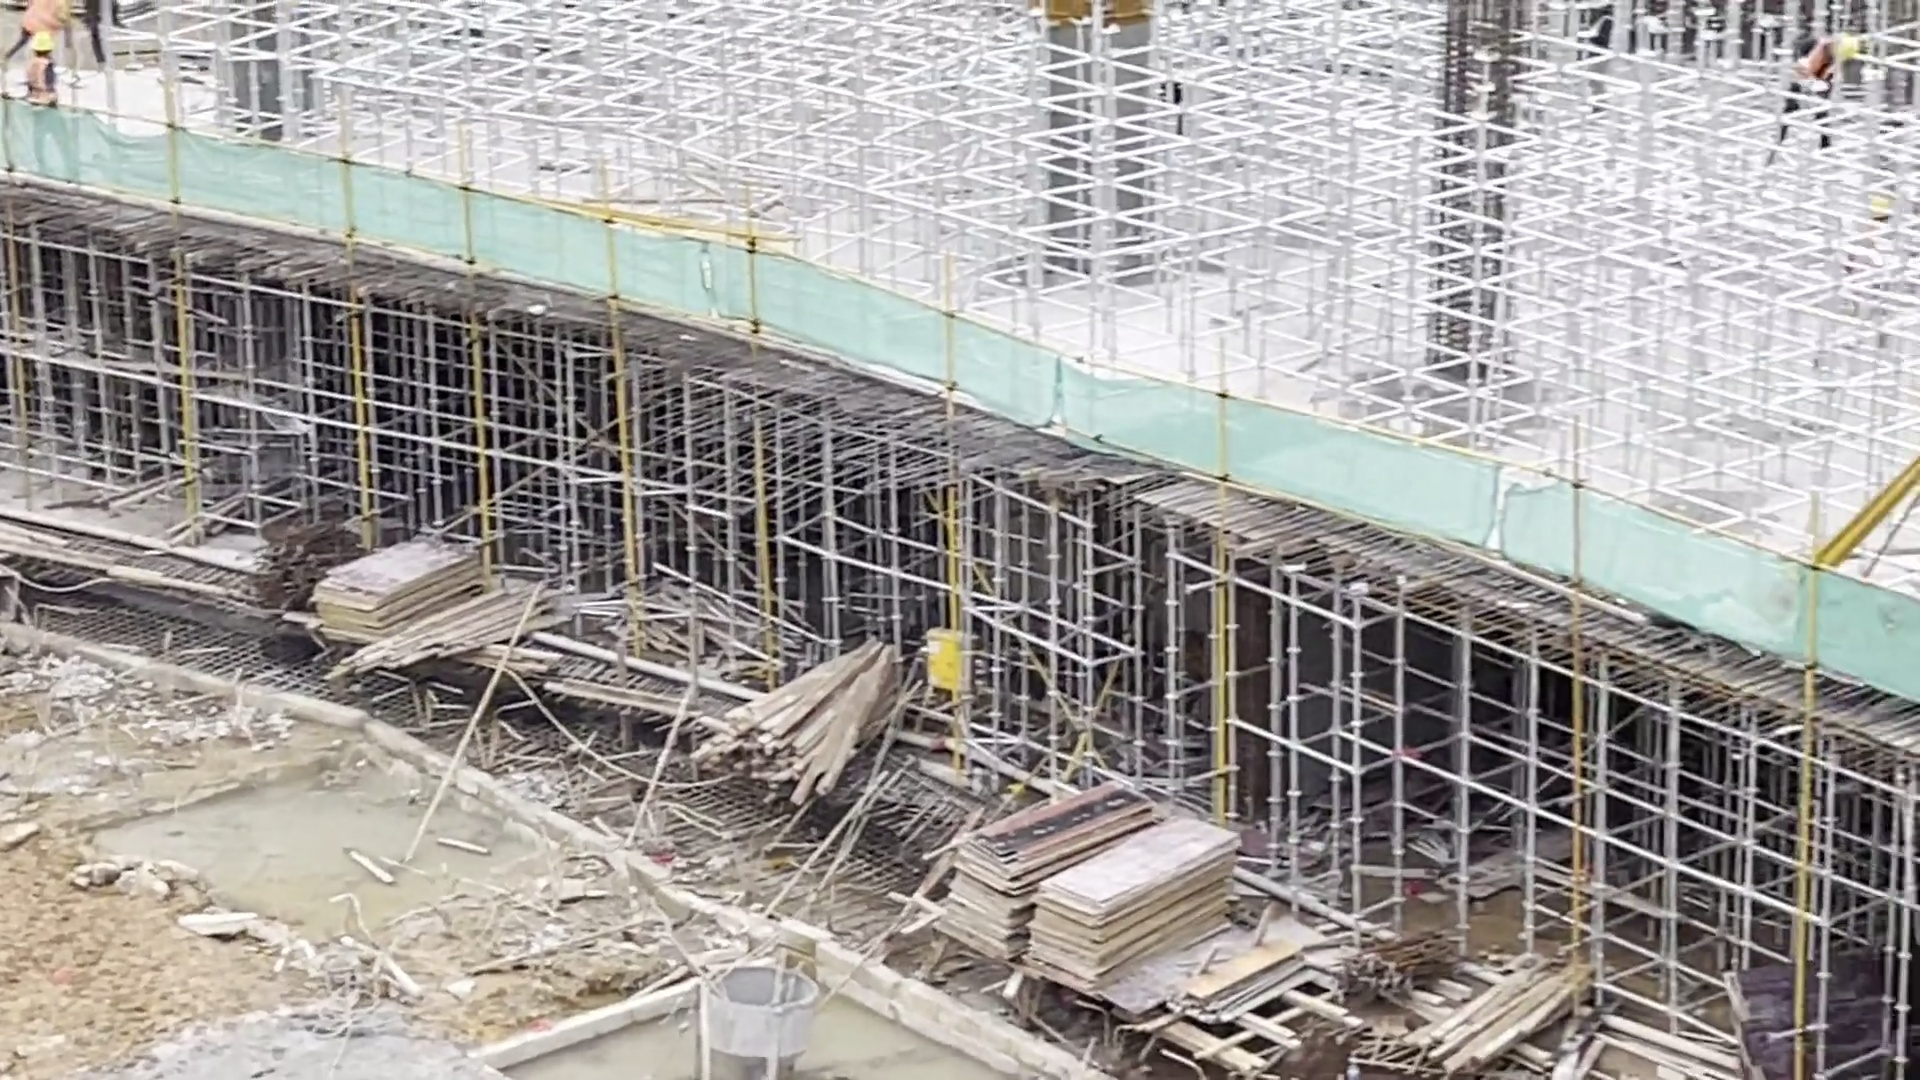board: (1047, 824, 1226, 975), (951, 783, 1134, 926), (315, 524, 481, 630)
ebox: (925, 628, 976, 705)
person: (14, 33, 85, 182), (1769, 34, 1843, 165)
vest: (22, 58, 60, 106), (1800, 38, 1830, 86)
wood: (696, 653, 921, 785)
